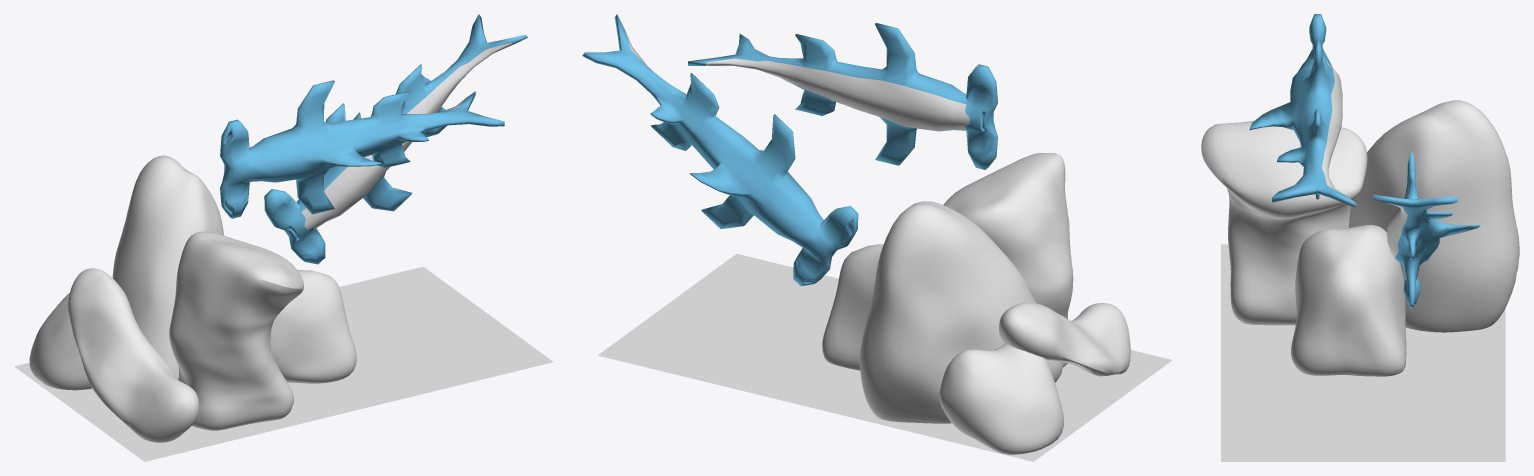
File: ExtracaoPedra.fbx
The picture shows the model from 3 angles, left to right: view 1: azimuth 30°, elevation 25°; view 2: azimuth 150°, elevation 25°; view 3: azimuth 270°, elevation 25°; orthographic projection. The views are drawn at different scales.
Visible parts, largest first — view 1: rocks, place, tubarao, tubarao.001; view 2: rocks, place, tubarao.001, tubarao; view 3: rocks, place, tubarao, tubarao.001.
Part boxes in pixels (x1=…): rocks: x1=29, y1=155, x2=356, y2=442; place: x1=14, y1=266, x2=553, y2=461; tubarao: x1=220, y1=80, x2=504, y2=218; tubarao.001: x1=264, y1=14, x2=527, y2=264; rocks: x1=822, y1=153, x2=1130, y2=454; place: x1=598, y1=253, x2=1172, y2=461; tubarao.001: x1=582, y1=14, x2=858, y2=286; tubarao: x1=688, y1=23, x2=997, y2=169; rocks: x1=1201, y1=100, x2=1519, y2=376; place: x1=1221, y1=244, x2=1505, y2=461; tubarao: x1=1249, y1=14, x2=1355, y2=207; tubarao.001: x1=1373, y1=152, x2=1480, y2=308.
Size of the model in its own units: 485 by 312 by 270.
